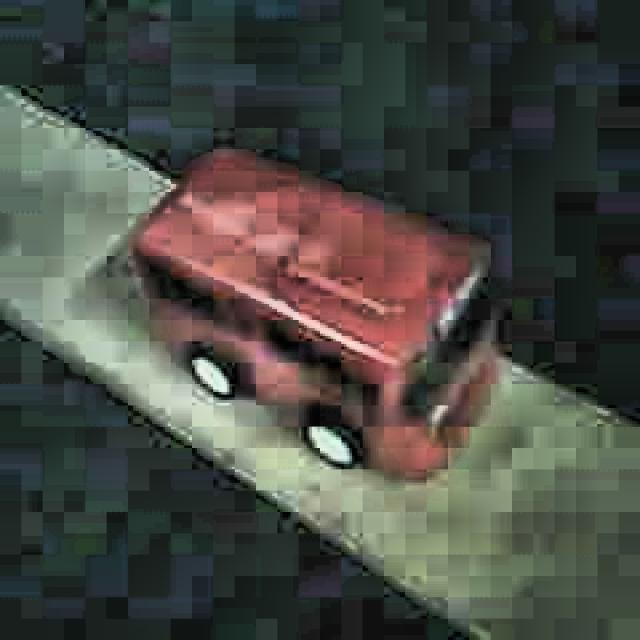bus: (126, 146, 499, 488)
